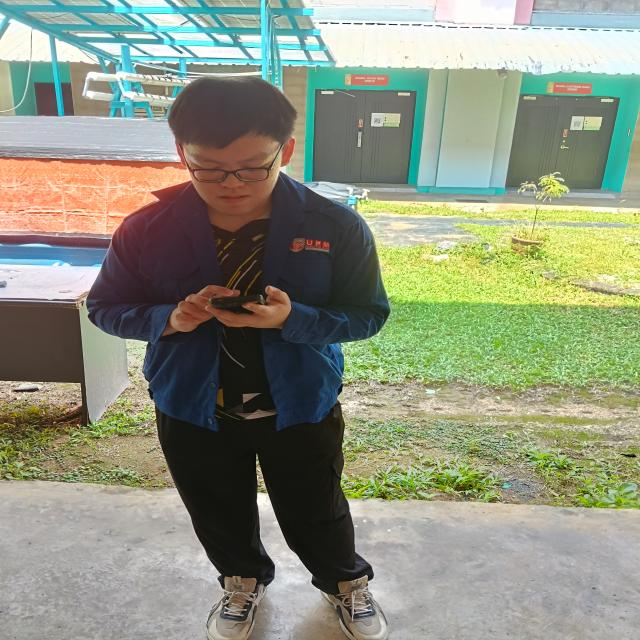person_with_labcoat: (88, 77, 389, 640)
